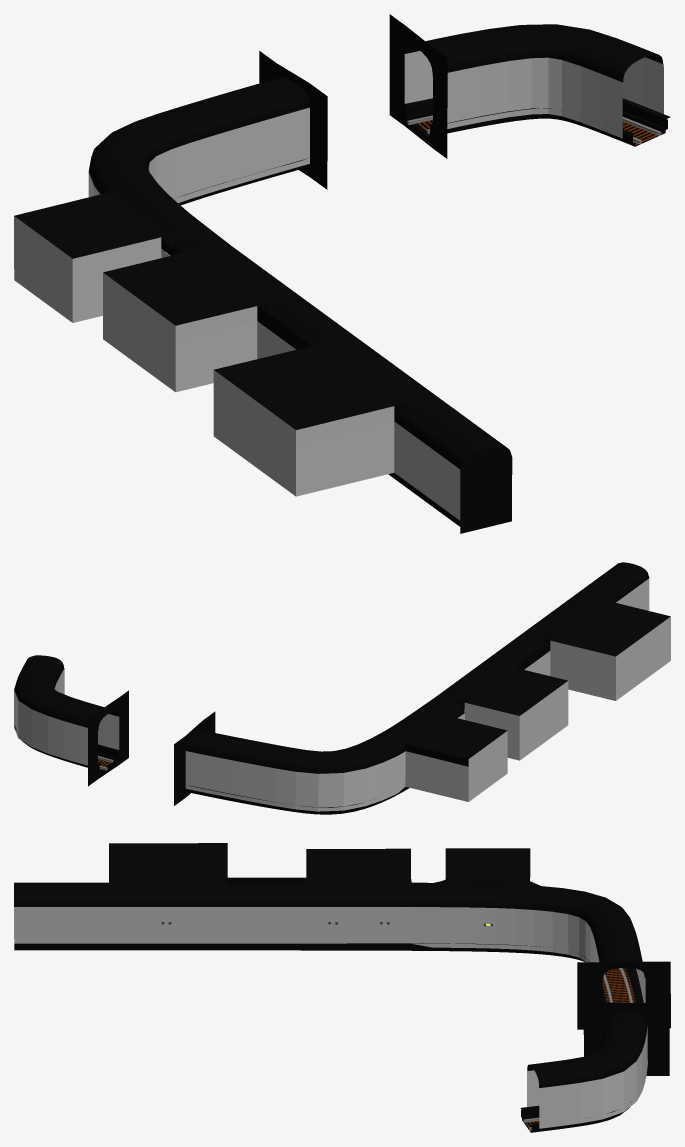
File: train.fbx
3 views of the same model, one above another, from view 1: azimuth 30°, elevation 25°; view 2: azimuth 150°, elevation 25°; view 3: azimuth 270°, elevation 25° (orthographic). The views are drawn at different scales.
Parts seen in each view (by area): view 1: tunel; view 2: tunel; view 3: tunel.
Part boxes in pixels (left/top/right/bottom): tunel: left=14, top=14, right=670, bottom=533; tunel: left=14, top=562, right=670, bottom=814; tunel: left=14, top=843, right=670, bottom=1132.
Bounding box in the file's own units: 43608 × 6308 × 51512.
